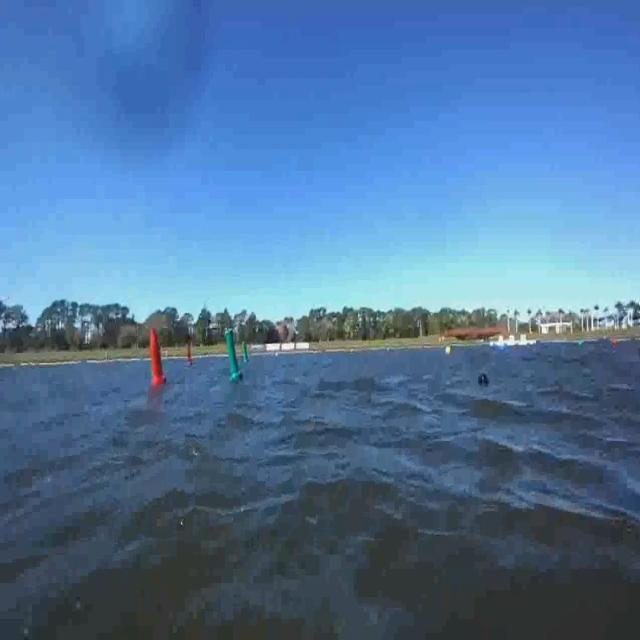green-column-buoy: (226, 331, 244, 382), (241, 335, 250, 367)
red-column-buoy: (150, 328, 168, 387), (184, 337, 194, 366)
